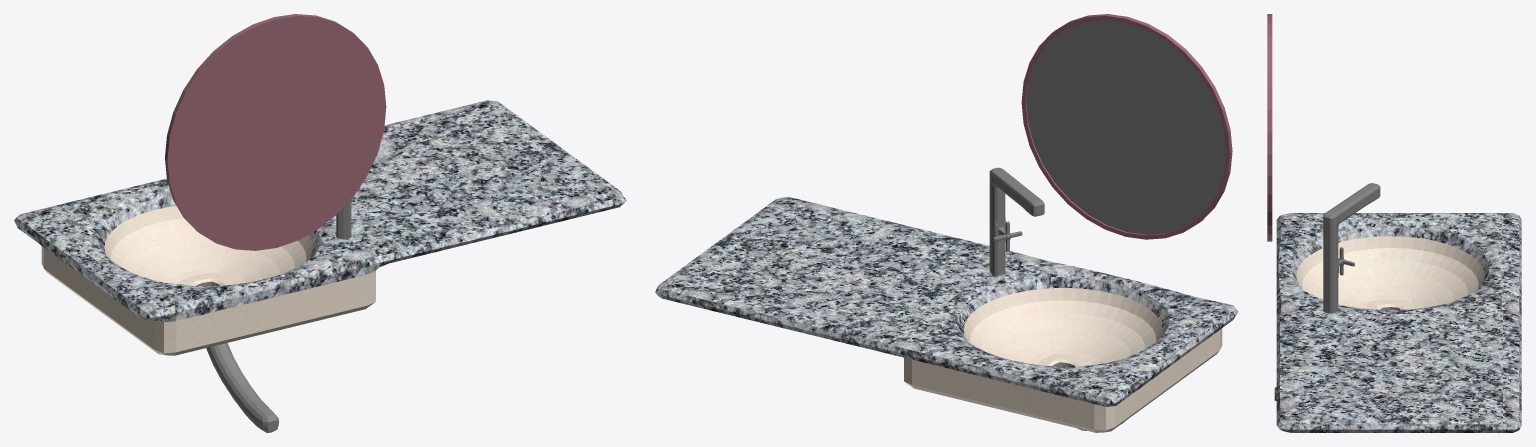
Rendered from Pia_Banheiro.fbx.
3 renders of one model, left to right at view 1: azimuth 30°, elevation 25°; view 2: azimuth 150°, elevation 25°; view 3: azimuth 270°, elevation 25°, orthographic. The views are drawn at different scales.
Visible parts, largest first — view 1: Pia_banheiro, Espelho; view 2: Pia_banheiro, Espelho, Torneira; view 3: Pia_banheiro, Torneira, Espelho.
Part boxes in pixels (x1,y1,x2,y2): Pia_banheiro: [14, 100, 626, 432]; Espelho: [165, 14, 386, 250]; Pia_banheiro: [655, 196, 1238, 432]; Espelho: [1021, 14, 1232, 239]; Torneira: [989, 167, 1044, 275]; Pia_banheiro: [1274, 213, 1521, 432]; Torneira: [1323, 183, 1380, 313]; Espelho: [1267, 14, 1272, 241].
Size of the model in its own units: 443 by 366 by 223.
